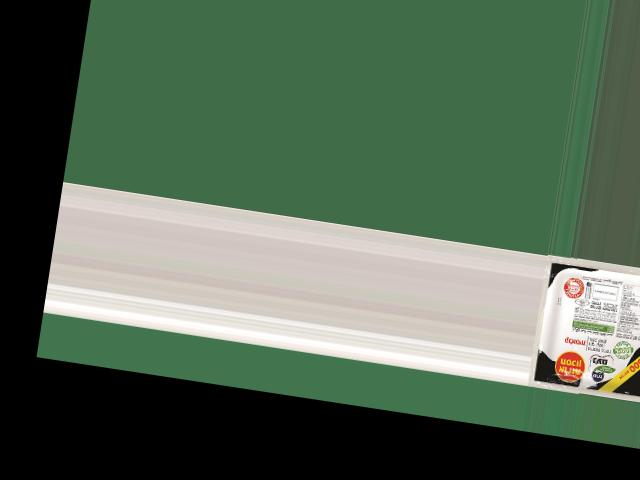cheese: (532, 265, 640, 396)
